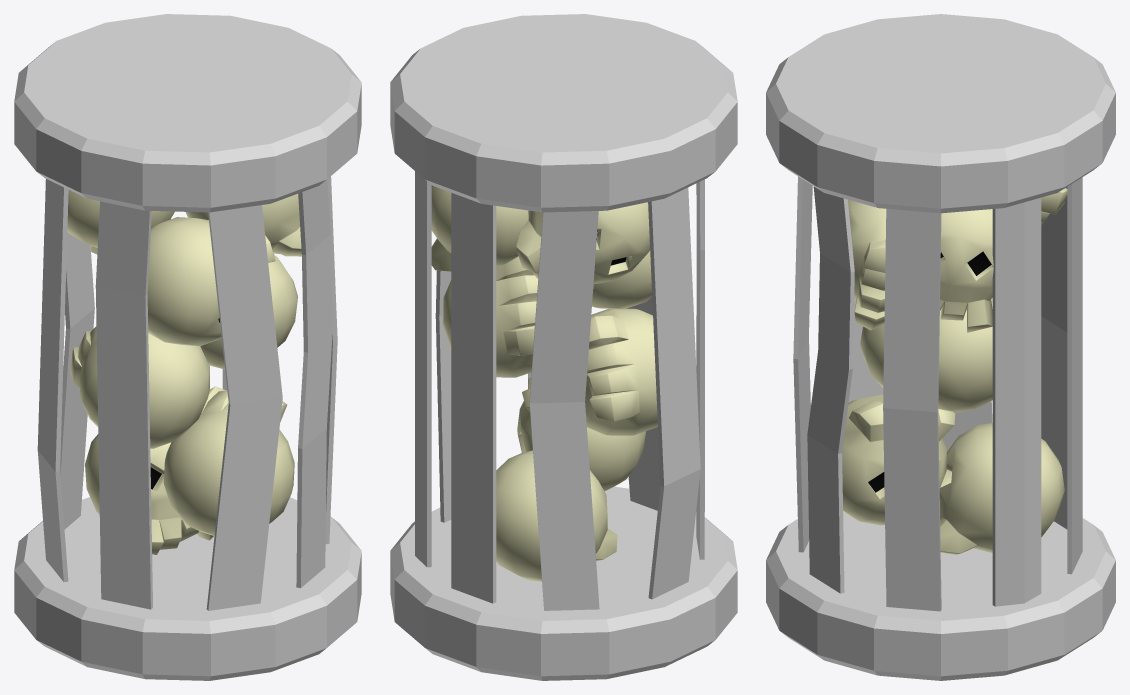
The model's file is skull_gun_ammo.glb.
3 renders of one model, left to right at view 1: azimuth 30°, elevation 25°; view 2: azimuth 150°, elevation 25°; view 3: azimuth 270°, elevation 25°, orthographic.
Visible parts, largest first — view 1: cage, Skulls; view 2: cage, Skulls; view 3: cage, Skulls.
Boxes of the visible parts, x1,y1,x2,y2 form: cage: (14, 14, 361, 680); Skulls: (67, 190, 301, 554); cage: (390, 14, 737, 680); Skulls: (431, 185, 657, 581); cage: (766, 14, 1115, 680); Skulls: (842, 188, 1067, 554).
Bounding box in the file's own units: 0.7188 × 1.2 × 0.7188.
